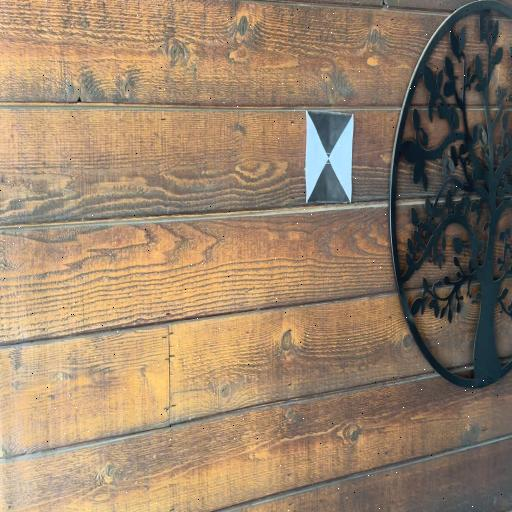target: (305, 109, 353, 205)
